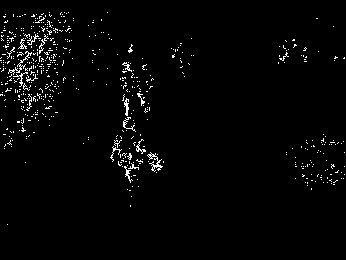person: (113, 116, 165, 195), (136, 61, 155, 115), (120, 61, 135, 117)
